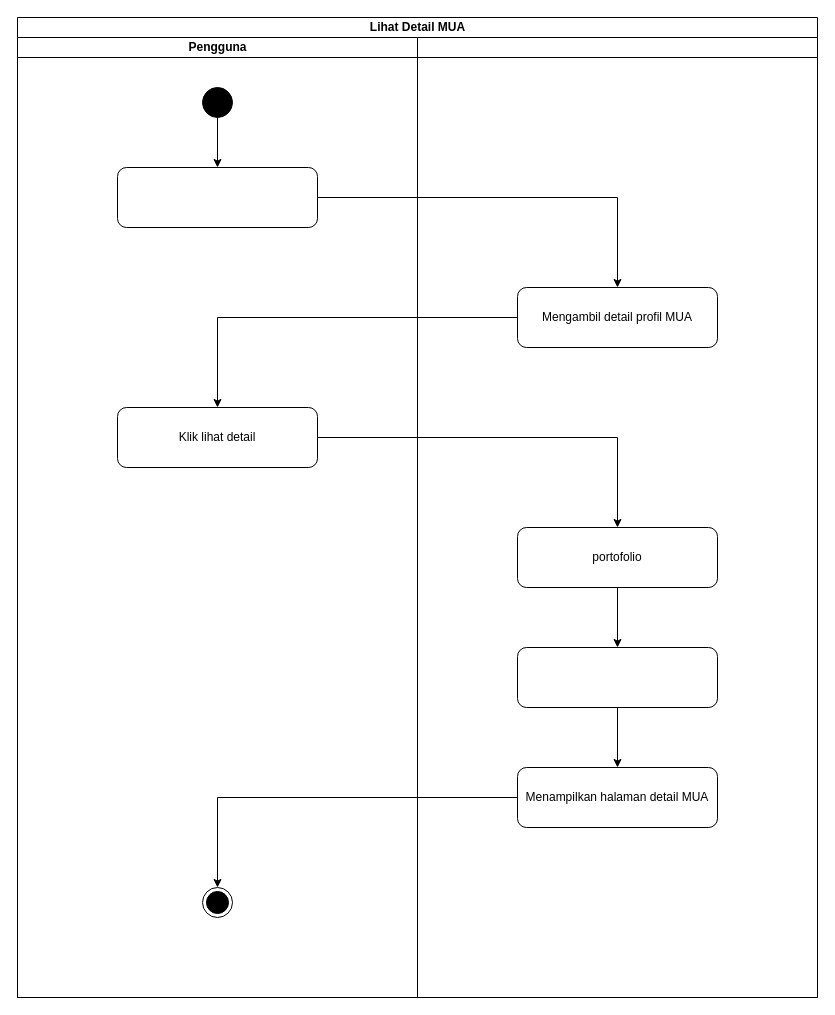
Some shapes in this 835 by 1015 pixel diagram are drawn without their labels. Here are the shapes that lost their labels. From the top down, the box of each, then its label:
(116, 166, 318, 228): Memilih salah satu MUA dari daftar
(416, 36, 818, 998): Sistem
(516, 646, 718, 708): dan harga
